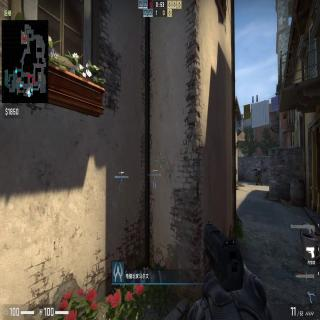T-Body: (255, 167, 263, 187)
T-Head: (258, 167, 260, 170)
